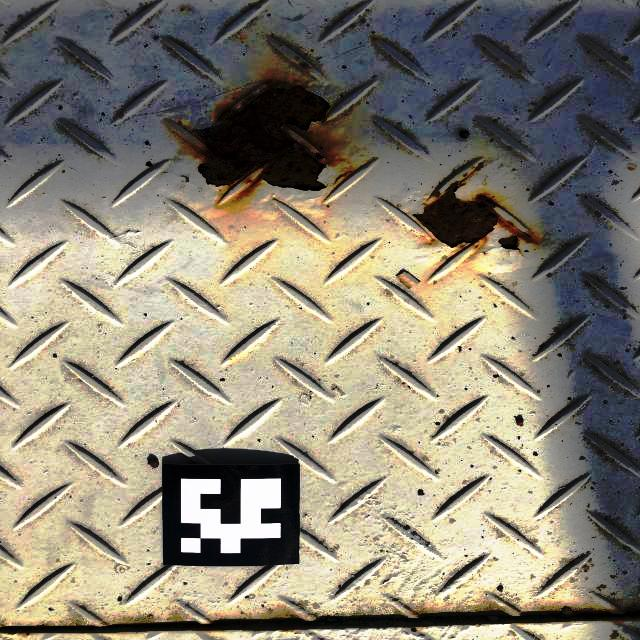Corrosion: (191, 80, 331, 191), (413, 180, 538, 250)
